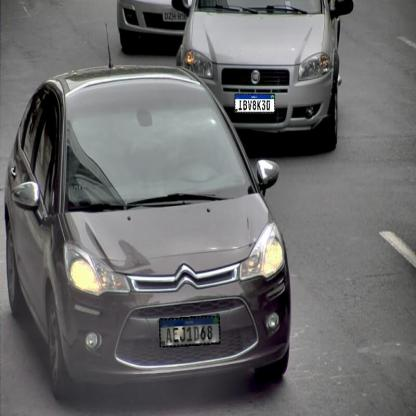PlacaM: (159, 316, 221, 348), (235, 94, 275, 113)
